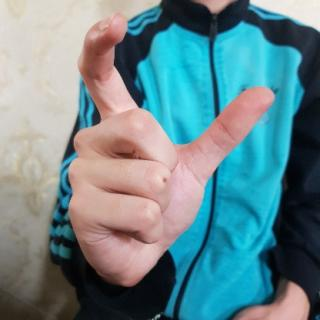NOON: (64, 9, 278, 286)
